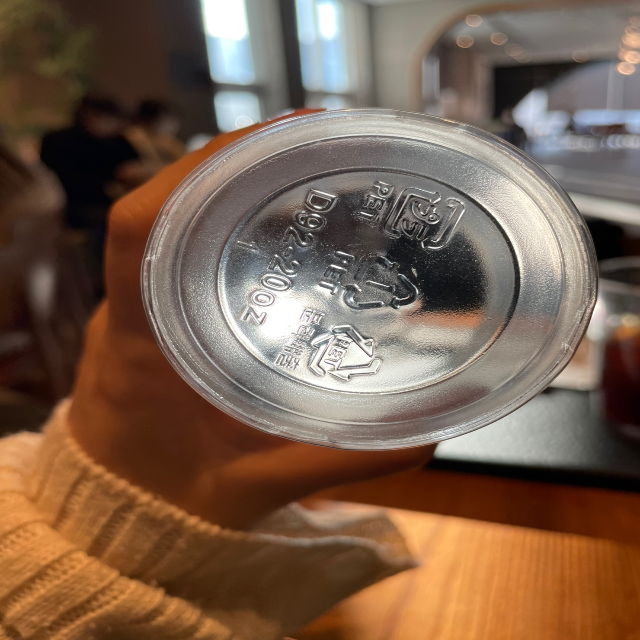pet: (269, 303, 394, 391), (358, 174, 465, 253), (316, 244, 422, 317)
